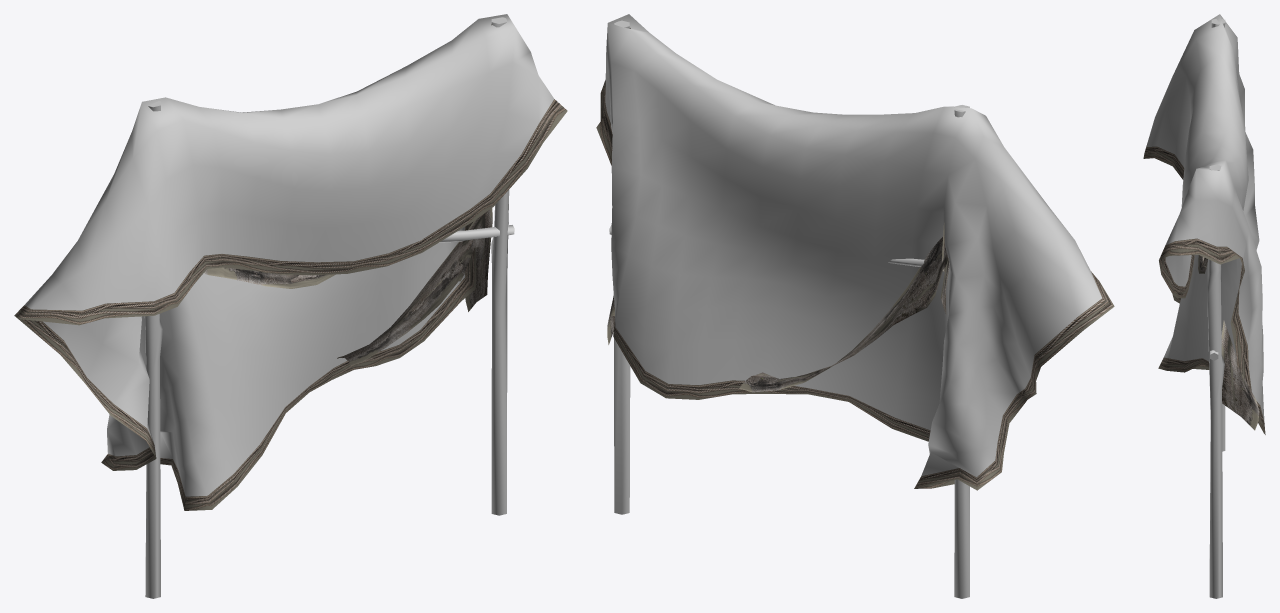
The model's file is Fishnet1.fbx.
3 renders of one model, left to right at view 1: azimuth 30°, elevation 25°; view 2: azimuth 150°, elevation 25°; view 3: azimuth 270°, elevation 25°, orthographic. The views are drawn at different scales.
Parts seen in each view (by area): view 1: polySurface1195; view 2: polySurface1195; view 3: polySurface1195.
Part boxes in pixels (box(x1,y1,x2,y2)): polySurface1195: box(14, 14, 567, 598); polySurface1195: box(596, 14, 1114, 598); polySurface1195: box(1143, 14, 1265, 598).
Bounding box in the file's own units: 7.37 × 6.58 × 1.69.
